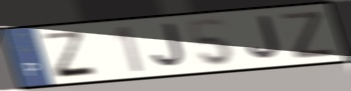1: (113, 24, 144, 74)
5: (185, 15, 237, 68)
J: (245, 14, 283, 62), (150, 21, 188, 69)
Z: (280, 10, 337, 61), (42, 31, 99, 80)
